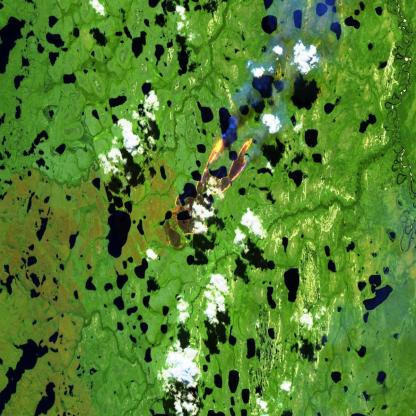fire: (164, 132, 256, 245)
